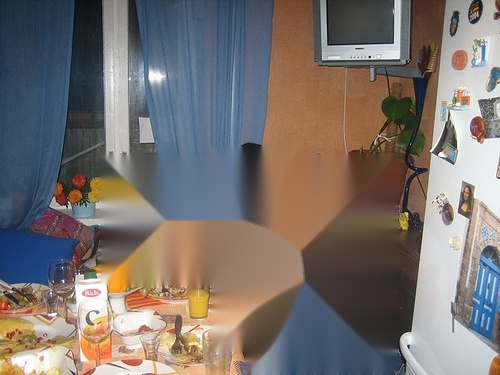diningtable: (1, 269, 250, 374)
pottedplant: (344, 83, 428, 214), (56, 174, 100, 220)
tvmonitor: (316, 1, 418, 66)
